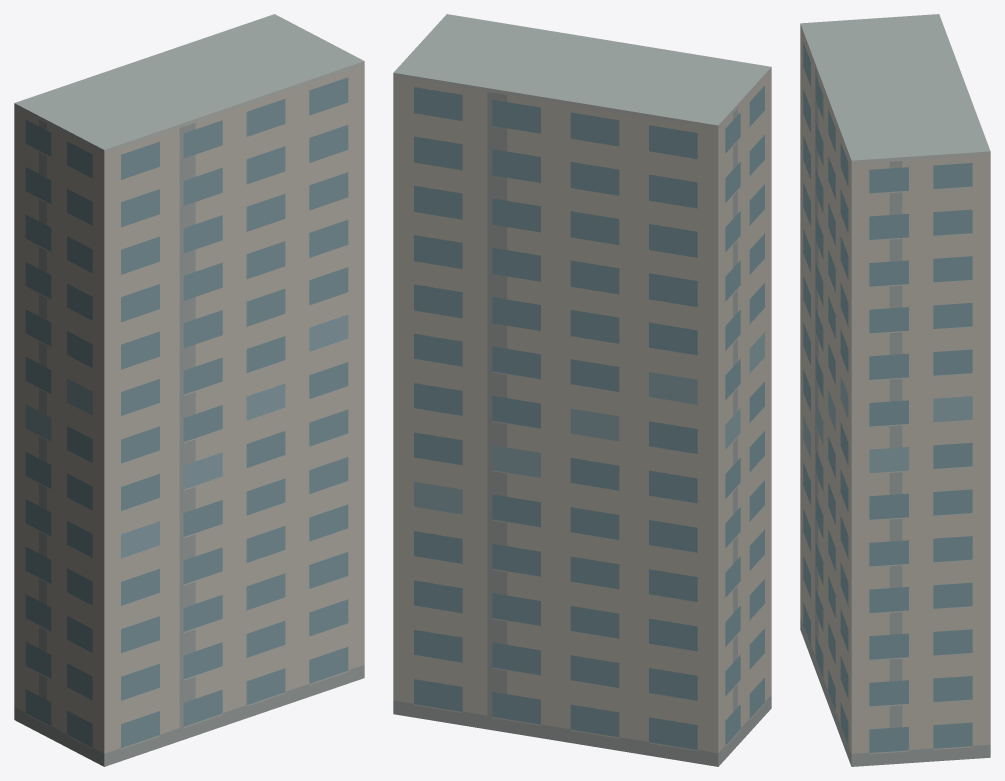
File: residential-d6835ea5-cf4f-41a6-8109-822bbcc3a5cb.glb
3 renders of one model, left to right at view 1: azimuth 30°, elevation 25°; view 2: azimuth 150°, elevation 25°; view 3: azimuth 270°, elevation 25°, orthographic. The views are drawn at different scales.
Parts seen in each view (by area): view 1: residential-d6835ea5-cf4f-41a6-8109-822bbcc3a5cb.tmp; view 2: residential-d6835ea5-cf4f-41a6-8109-822bbcc3a5cb.tmp; view 3: residential-d6835ea5-cf4f-41a6-8109-822bbcc3a5cb.tmp.
Part boxes in pixels (x1,y1,x2,y2): residential-d6835ea5-cf4f-41a6-8109-822bbcc3a5cb.tmp: [14, 14, 364, 766]; residential-d6835ea5-cf4f-41a6-8109-822bbcc3a5cb.tmp: [393, 14, 771, 766]; residential-d6835ea5-cf4f-41a6-8109-822bbcc3a5cb.tmp: [800, 14, 990, 766].
Bounding box in the file's own units: 20.76 × 40 × 11.39.
